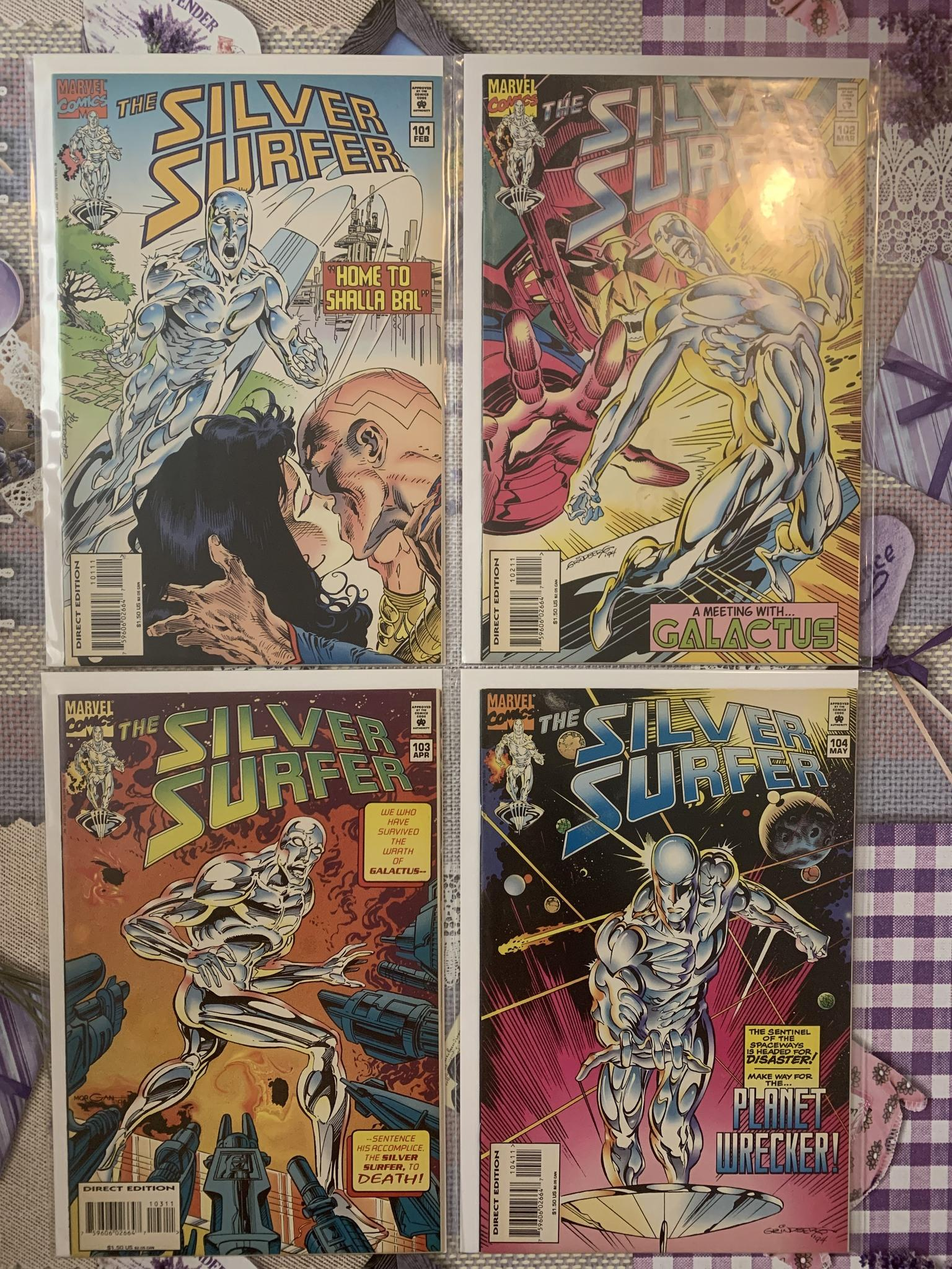comic: (37, 52, 445, 666), (460, 56, 867, 666), (458, 667, 856, 1256), (44, 669, 442, 1257)
